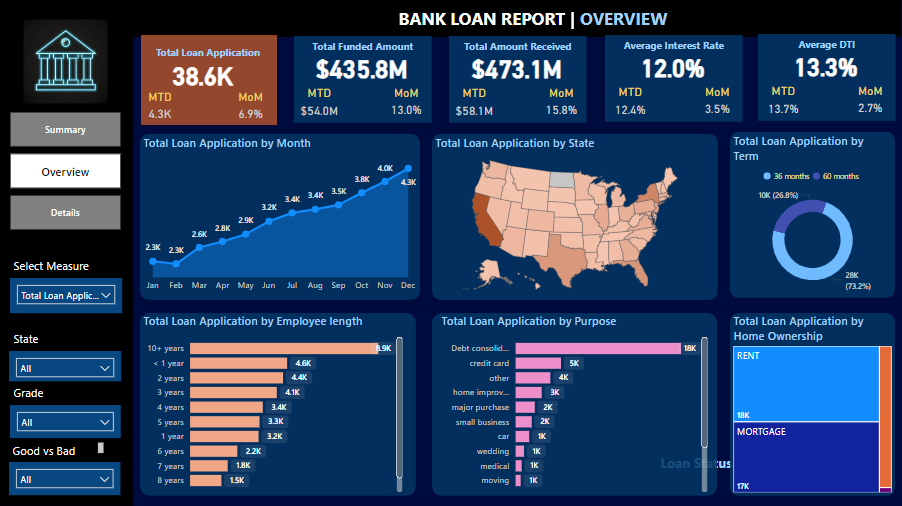

The page's visual inventory and layout, read from the dashboard file:
{"tool":"powerbi","page":{"name":"Overview","canvas":[1280,720],"ordinal":1},"visuals":[{"type":"shape","box":[1077.2,51,195,123.4],"z":0,"group":"g6"},{"type":"shape","box":[202.9,51.8,192.8,127.6],"z":0,"group":"g2"},{"type":"shape","box":[860.3,52.4,195,123.4],"z":0,"group":"g5"},{"type":"shape","box":[419.1,53.6,195,123.4],"z":0,"group":"g3"},{"type":"shape","box":[639.2,53.6,195,123.4],"z":0,"group":"g4"},{"type":"shape","box":[201.3,192.8,396.9,235.3],"z":0},{"type":"shape","box":[0,0,1279.8,55.3],"z":1000},{"type":"card","title":"Total Loan Application","fields":{"Values":["bank_loan financial_loan.Average DTI"]},"box":[1101.1,73.2,143.3,43.3],"z":1000,"group":"g6"},{"type":"card","title":"Total Loan Application","fields":{"Values":["bank_loan financial_loan.Avg Interest Rate"]},"box":[884.2,74.6,143.3,43.3],"z":1000,"group":"g5"},{"type":"card","title":"Total Loan Application","fields":{"Values":["bank_loan financial_loan.Total Funded Amount"]},"box":[443,75.8,143.3,43.3],"z":1000,"group":"g3"},{"type":"card","title":"Total Loan Application","fields":{"Values":["bank_loan financial_loan.Total Amount Received"]},"box":[663.1,75.8,143.3,43.3],"z":1000,"group":"g4"},{"type":"card","title":"Total Loan Application","fields":{"Values":["bank_loan financial_loan.Total Loan Application"]},"box":[237.7,82.6,103.6,49.4],"z":1000,"group":"g2"},{"type":"textbox","box":[1077.2,51,195,33.4],"z":2000,"group":"g6"},{"type":"textbox","box":[860.3,52.4,195,33.4],"z":2000,"group":"g5"},{"type":"textbox","box":[419.1,53.6,195,33.4],"z":2000,"group":"g3"},{"type":"textbox","box":[639.2,53.6,195,33.4],"z":2000,"group":"g4"},{"type":"shape","box":[0,53.9,191.3,666.1],"z":2000},{"type":"textbox","box":[203.2,61.5,189.3,32.4],"z":2000,"group":"g2"},{"type":"group","id":"g1","title":"Group 2","box":[201.6,51.8,194,127.6],"z":3000},{"type":"group","id":"g2","title":"Group 1","box":[202.9,51.8,192.8,127.6],"z":3000,"group":"g1"},{"type":"card","title":"MTD","fields":{"Values":["bank_loan financial_loan.MTD Avg DTI"]},"box":[1077.8,121.6,71.7,53.3],"z":3000,"group":"g6"},{"type":"card","title":"MTD","fields":{"Values":["bank_loan financial_loan.MTD Avg Int Rate"]},"box":[860.9,123,71.7,53.3],"z":3000,"group":"g5"},{"type":"card","title":"MTD","fields":{"Values":["bank_loan financial_loan.MTD Funded Amount"]},"box":[419.7,124.2,71.7,53.3],"z":3000,"group":"g3"},{"type":"card","title":"MTD","fields":{"Values":["bank_loan financial_loan.MTD Amount Received"]},"box":[639.8,124.2,71.7,53.3],"z":3000,"group":"g4"},{"type":"card","title":"MoM","fields":{"Values":["bank_loan financial_loan.MoM Loan Application"]},"box":[323,129.7,69.6,49.4],"z":3000,"group":"g2"},{"type":"group","id":"g3","title":"Group 1","box":[419.1,53.6,195,123.9],"z":4000},{"type":"card","title":"MoM","fields":{"Values":["bank_loan financial_loan.MoM Avg DTI"]},"box":[1200.5,121.3,71.7,51],"z":4000,"group":"g6"},{"type":"card","title":"MoM","fields":{"Values":["bank_loan financial_loan.MoM Avg Int Rate"]},"box":[983.6,122.7,71.7,51],"z":4000,"group":"g5"},{"type":"card","title":"MoM","fields":{"Values":["bank_loan financial_loan.MoM Funded Amount"]},"box":[542.4,123.9,71.7,51],"z":4000,"group":"g3"},{"type":"card","title":"MoM","fields":{"Values":["bank_loan financial_loan.MoM Amount Received"]},"box":[762.5,123.9,71.7,51],"z":4000,"group":"g4"},{"type":"card","title":"MTD","fields":{"Values":["bank_loan financial_loan.MTD Loan Application"]},"box":[201.6,129.3,56.9,49.3],"z":4000,"group":"g1"},{"type":"group","id":"g4","title":"Group 1","box":[639.2,53.6,195,123.3],"z":5000},{"type":"group","id":"g5","title":"Group 1","box":[860.3,52.4,195.6,123.3],"z":6000},{"type":"group","id":"g6","title":"Group 1","box":[1077.2,51,194.2,123.3],"z":7000},{"type":"textbox","box":[933.3,640,260,41.7],"z":8000},{"type":"slicer","fields":{"Values":["bank_loan financial_loan.address_state"]},"box":[15.6,500.3,158.7,42.5],"z":9000},{"type":"textbox","box":[17,466.3,62.4,34],"z":10000},{"type":"slicer","fields":{"Values":["bank_loan financial_loan.grade"]},"box":[17,576.9,157.3,46.8],"z":11000},{"type":"textbox","box":[17,542.8,73.7,34],"z":12000},{"type":"slicer","fields":{"Values":["bank_loan financial_loan.Good vs Bad Loan"]},"box":[15.2,657.7,158.3,46.7],"z":13000},{"type":"textbox","box":[15.6,625,138.9,32.6],"z":14000},{"type":"textbox","box":[562.7,7.1,411,43.9],"z":15000},{"type":"areaChart","fields":{"Y":["bank_loan financial_loan.Total Loan Application"],"Category":["Date Table.Month"]},"box":[201.3,194.2,398.3,231],"z":16000},{"type":"slicer","fields":{"Values":["Select Measure.Select Measure"]},"box":[17,396.9,158.7,49.6],"z":17000},{"type":"textbox","box":[17,362.8,137.5,34],"z":18000},{"type":"shape","box":[615.1,192.8,405.4,235.3],"z":19000},{"type":"shapeMap","fields":{"Value":["bank_loan financial_loan.Total Loan Application"],"Category":["bank_loan financial_loan.address_state"]},"box":[615.1,194.2,392.6,233.9],"z":20000},{"type":"shape","box":[1037.5,189.9,233.9,235.3],"z":21000},{"type":"donutChart","fields":{"Y":["bank_loan financial_loan.Total Loan Application"],"Category":["bank_loan financial_loan.term"]},"box":[1037.5,191.3,233.9,233.9],"z":22000},{"type":"shape","box":[201.3,446.5,391.2,259.4],"z":23000},{"type":"barChart","fields":{"Y":["bank_loan financial_loan.Total Loan Application"],"Category":["bank_loan financial_loan.emp_length"]},"box":[201.3,446.5,377,259.4],"z":24000},{"type":"shape","box":[615.1,446.5,403.9,259.4],"z":25000},{"type":"barChart","fields":{"Y":["bank_loan financial_loan.Total Loan Application"],"Category":["bank_loan financial_loan.purpose"]},"box":[623.6,446.5,386.9,259.4],"z":26000},{"type":"shape","box":[1037.5,446.5,233.9,259.4],"z":27000},{"type":"treemap","fields":{"Values":["bank_loan financial_loan.Total Loan Application"],"Group":["bank_loan financial_loan.home_ownership"]},"box":[1037.5,446.5,233.9,259.4],"z":28000},{"type":"pageNavigator","box":[17,161.6,157.3,167.2],"z":29000},{"type":"image","box":[31.2,25.5,129,129],"z":30000}]}

Visuals, with their boxes in screenshot pixels (x1, y1, x2, y2), scaled from the page's 1280x720 canvas onto the 902x506 screenshot:
shape: bbox(759, 36, 897, 123)
shape: bbox(143, 36, 279, 126)
shape: bbox(606, 37, 744, 124)
shape: bbox(295, 38, 433, 124)
shape: bbox(450, 38, 588, 124)
shape: bbox(142, 135, 422, 301)
shape: bbox(0, 0, 901, 39)
"Total Loan Application" card: bbox(776, 51, 877, 82)
"Total Loan Application" card: bbox(623, 52, 724, 83)
"Total Loan Application" card: bbox(312, 53, 413, 84)
"Total Loan Application" card: bbox(467, 53, 568, 84)
"Total Loan Application" card: bbox(168, 58, 241, 93)
textbox: bbox(759, 36, 897, 59)
textbox: bbox(606, 37, 744, 60)
textbox: bbox(295, 38, 433, 61)
textbox: bbox(450, 38, 588, 61)
shape: bbox(0, 38, 135, 505)
textbox: bbox(143, 43, 277, 66)
"Group 2" group: bbox(142, 36, 279, 126)
"Group 1" group: bbox(143, 36, 279, 126)
"MTD" card: bbox(760, 85, 810, 123)
"MTD" card: bbox(607, 86, 657, 124)
"MTD" card: bbox(296, 87, 346, 125)
"MTD" card: bbox(451, 87, 501, 125)
"MoM" card: bbox(228, 91, 277, 126)
"Group 1" group: bbox(295, 38, 433, 125)
"MoM" card: bbox(846, 85, 897, 121)
"MoM" card: bbox(693, 86, 744, 122)
"MoM" card: bbox(382, 87, 433, 123)
"MoM" card: bbox(537, 87, 588, 123)
"MTD" card: bbox(142, 91, 182, 126)
"Group 1" group: bbox(450, 38, 588, 124)
"Group 1" group: bbox(606, 37, 744, 123)
"Group 1" group: bbox(759, 36, 896, 122)
textbox: bbox(658, 450, 841, 479)
slicer - bank_loan financial_loan.address_state: bbox(11, 352, 123, 381)
textbox: bbox(12, 328, 56, 352)
slicer - bank_loan financial_loan.grade: bbox(12, 405, 123, 438)
textbox: bbox(12, 381, 64, 405)
slicer - bank_loan financial_loan.Good vs Bad Loan: bbox(11, 462, 122, 495)
textbox: bbox(11, 439, 109, 462)
textbox: bbox(397, 5, 686, 36)
areaChart - bank_loan financial_loan.Total Loan Application x Date Table.Month: bbox(142, 136, 423, 299)
slicer - Select Measure.Select Measure: bbox(12, 279, 124, 314)
textbox: bbox(12, 255, 109, 279)
shape: bbox(433, 135, 719, 301)
shapeMap - bank_loan financial_loan.Total Loan Application x bank_loan financial_loan.address_state: bbox(433, 136, 710, 301)
shape: bbox(731, 133, 896, 299)
donutChart - bank_loan financial_loan.Total Loan Application x bank_loan financial_loan.term: bbox(731, 134, 896, 299)
shape: bbox(142, 314, 418, 496)
barChart - bank_loan financial_loan.Total Loan Application x bank_loan financial_loan.emp_length: bbox(142, 314, 408, 496)
shape: bbox(433, 314, 718, 496)
barChart - bank_loan financial_loan.Total Loan Application x bank_loan financial_loan.purpose: bbox(439, 314, 712, 496)
shape: bbox(731, 314, 896, 496)
treemap - bank_loan financial_loan.Total Loan Application x bank_loan financial_loan.home_ownership: bbox(731, 314, 896, 496)
pageNavigator: bbox(12, 114, 123, 231)
image: bbox(22, 18, 113, 109)
